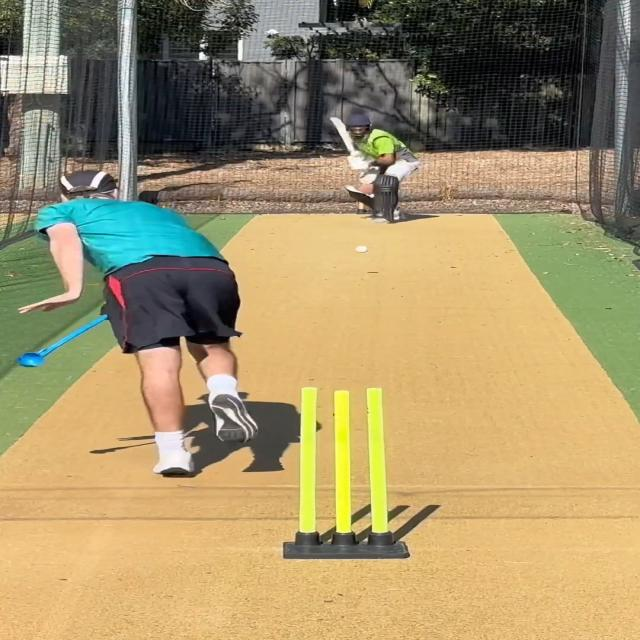ball: (353, 244, 369, 254)
stump: (283, 385, 411, 559)
